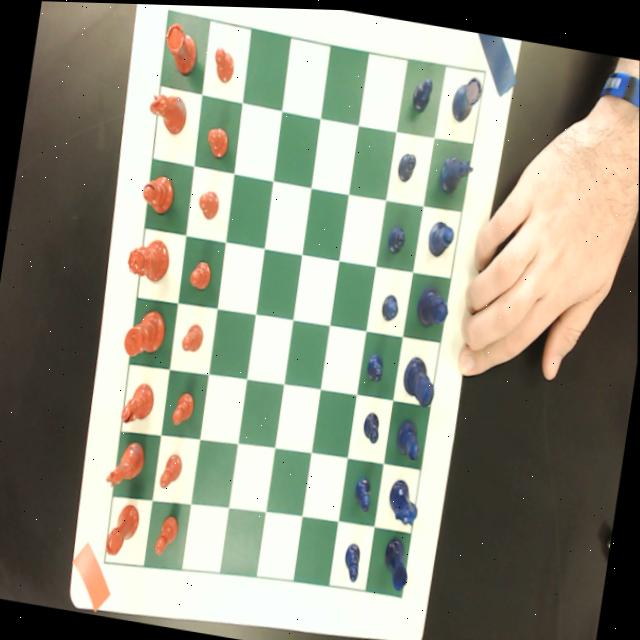B: (394, 416, 426, 460), (427, 217, 456, 257)
K: (400, 352, 439, 407)
N: (438, 150, 476, 197), (386, 476, 422, 525)
P: (343, 541, 364, 583), (411, 74, 434, 112), (364, 349, 388, 384), (395, 148, 418, 183), (353, 474, 374, 512), (361, 408, 383, 444), (386, 220, 408, 255), (380, 290, 402, 322)
Q: (415, 282, 452, 328)
R: (380, 532, 414, 589), (450, 73, 486, 126)
b: (121, 380, 157, 427), (140, 173, 177, 216)
k: (122, 303, 170, 361)
n: (105, 437, 148, 495), (147, 90, 190, 138)
p: (154, 512, 181, 558), (159, 451, 185, 492), (172, 389, 197, 428), (212, 44, 237, 83), (205, 123, 231, 158), (188, 256, 214, 290), (181, 321, 206, 355), (197, 188, 221, 221)
q: (125, 234, 172, 286)
r: (104, 501, 143, 561), (161, 20, 202, 77)
